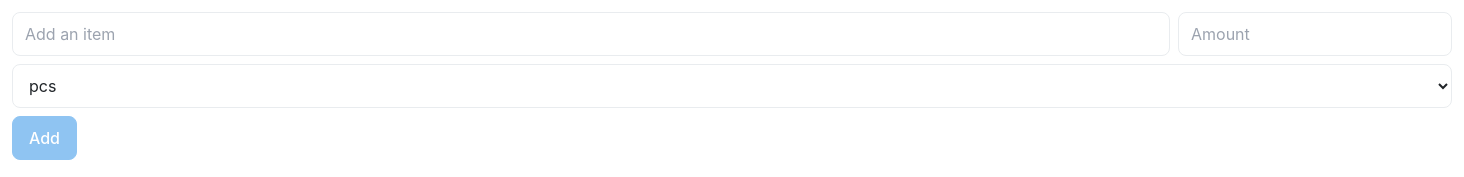
Test: QuickAddRow › amount validation (F4) › is valid when the amount is left blank
Type "Bananas" into the field named "Item name" at (591, 34), box x1=12 y1=12 x2=1170 y2=56
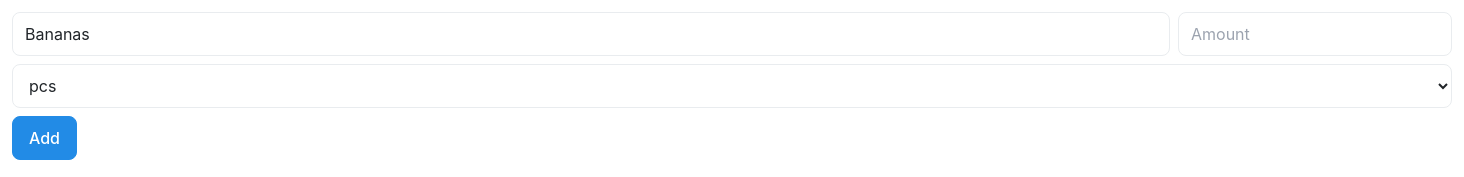
Expected: the button "Add" is enabled, x1=12 y1=116 x2=77 y2=160
